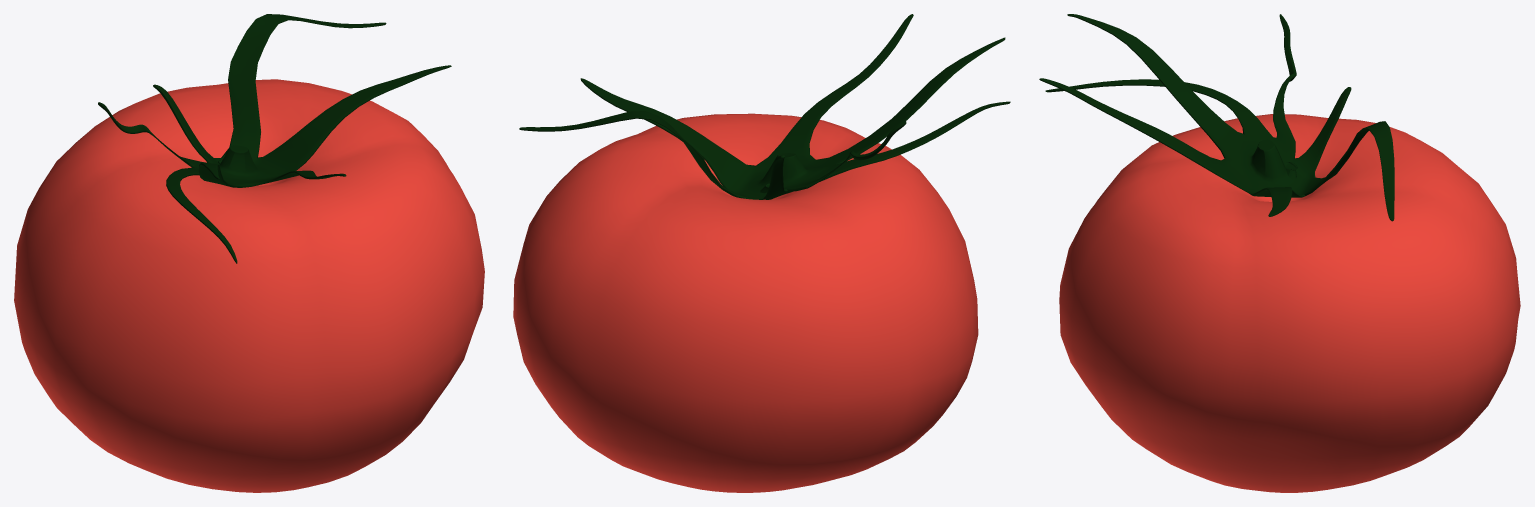
The model's file is Tomato_01.fbx.
3 renders of one model, left to right at view 1: azimuth 30°, elevation 25°; view 2: azimuth 150°, elevation 25°; view 3: azimuth 270°, elevation 25°, orthographic. The views are drawn at different scales.
Visible parts, largest first — view 1: TomatoSample1_LOD0; view 2: TomatoSample1_LOD0; view 3: TomatoSample1_LOD0.
Part boxes in pixels (x1=…): TomatoSample1_LOD0: x1=14, y1=14, x2=484, y2=492; TomatoSample1_LOD0: x1=513, y1=14, x2=1010, y2=492; TomatoSample1_LOD0: x1=1039, y1=14, x2=1520, y2=492.
Size of what is drawn, in the model's own units: 27.53 by 26.06 by 29.36.
